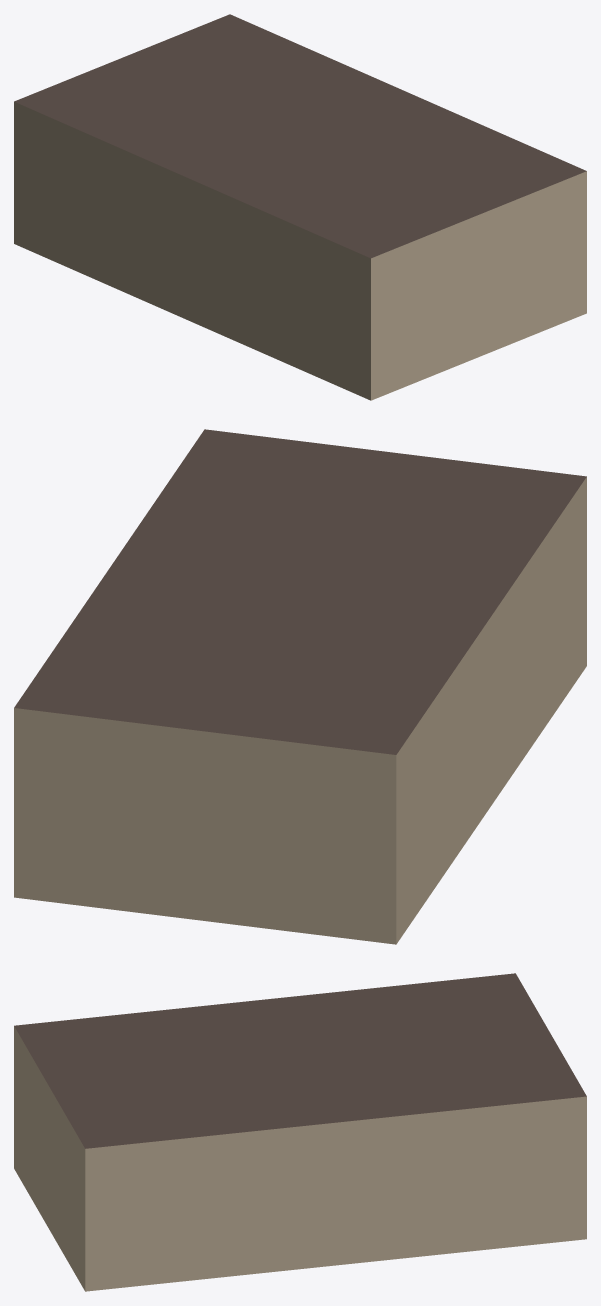
The picture shows the model from 3 angles, top to bottom: view 1: azimuth 30°, elevation 25°; view 2: azimuth 150°, elevation 25°; view 3: azimuth 270°, elevation 25°; orthographic projection. The views are drawn at different scales.
Parts seen in each view (by area): view 1: HP-w1138074123; view 2: HP-w1138074123; view 3: HP-w1138074123.
Boxes of the visible parts, x1=… form: HP-w1138074123: x1=14, y1=14, x2=586, y2=400; HP-w1138074123: x1=14, y1=429, x2=586, y2=944; HP-w1138074123: x1=14, y1=973, x2=586, y2=1291.
Bounding box in the file's own units: 23.73 × 9 × 32.73.
